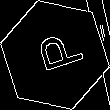P_W: (26, 30, 84, 80)
